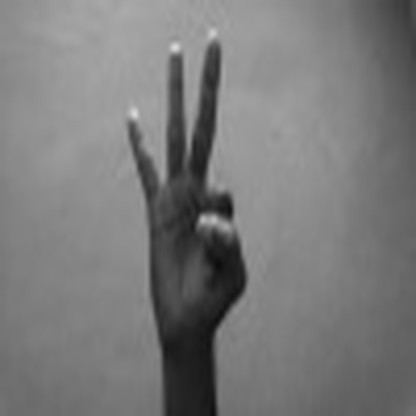f: (113, 19, 256, 330)
